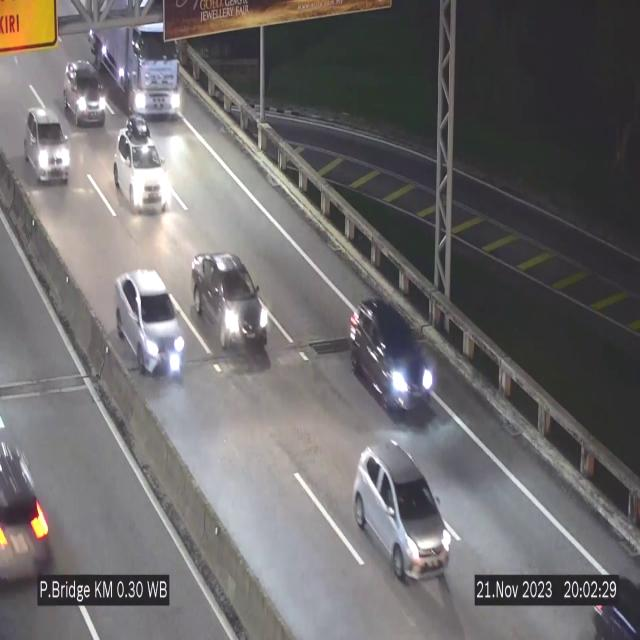Car: (355, 433, 451, 582), (342, 297, 442, 419), (0, 423, 64, 591), (186, 247, 274, 355), (115, 271, 185, 374), (114, 130, 170, 212), (20, 101, 70, 190), (64, 61, 106, 127)
Truck: (88, 25, 178, 117)
